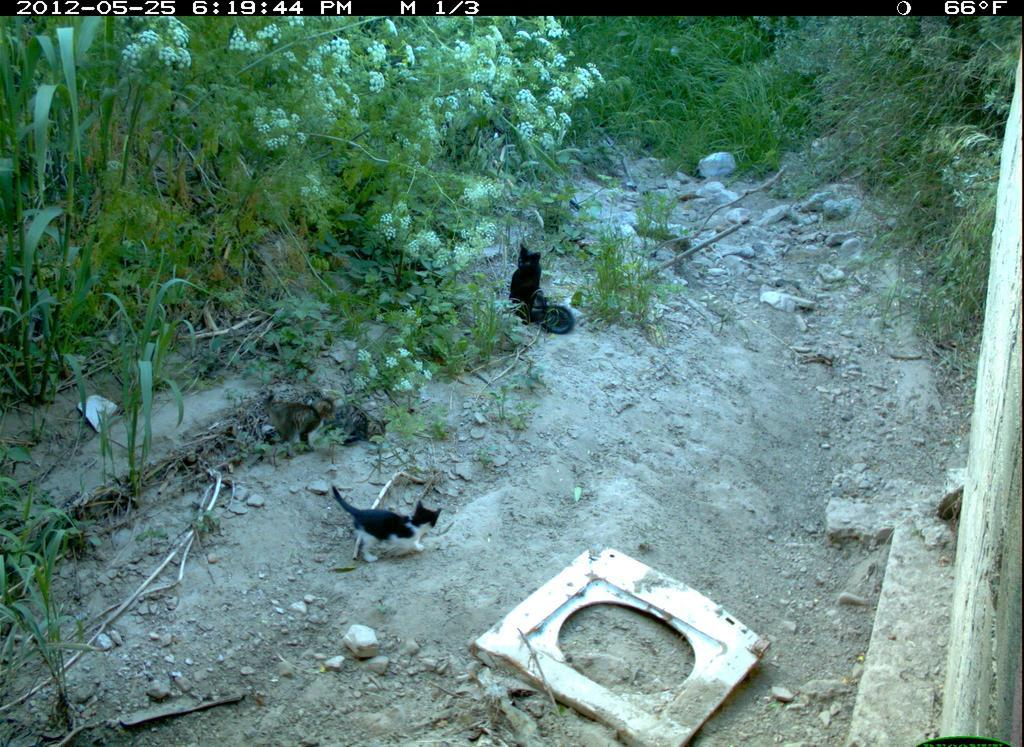cat: (329, 483, 447, 566), (507, 239, 579, 338), (263, 382, 338, 460), (309, 388, 393, 451)
